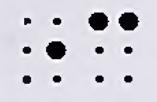dot_5: (23, 17, 67, 84)
two_cell_alphabet_karaniwan: (88, 12, 139, 84)
